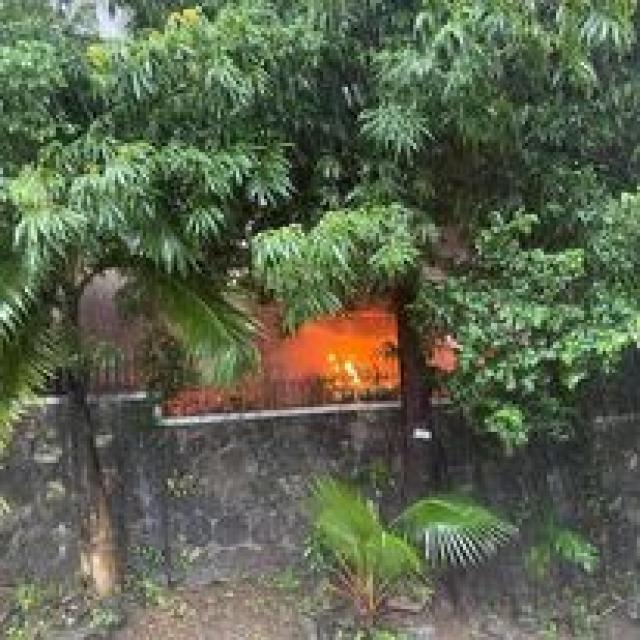Fire: (276, 302, 410, 414)
